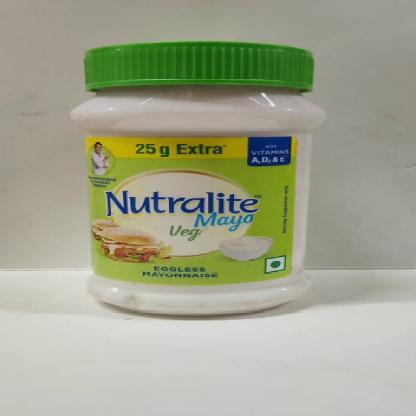Nutralite VEG MAYO 300g-275g-25g-: (80, 42, 306, 320)
